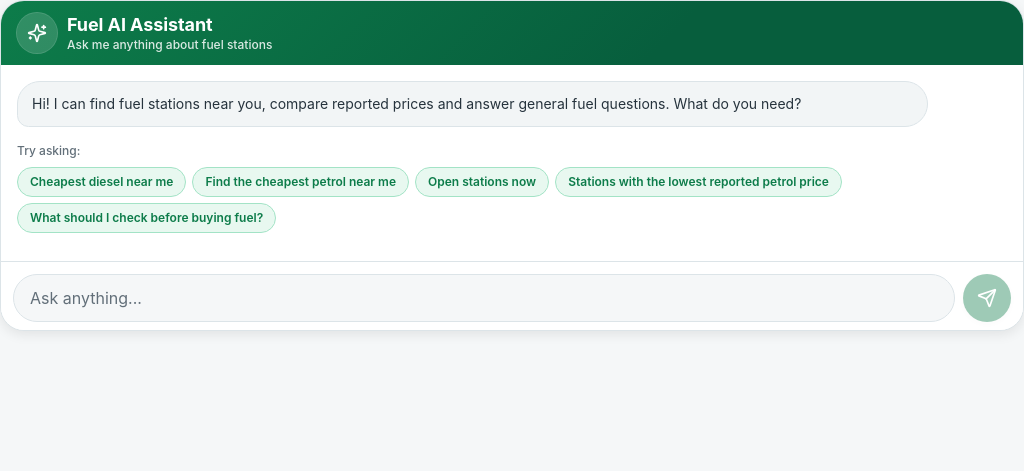
Test: conversational questions › still refuses to run a station search without a location
The width and height of the screenshot is (1024, 471).
Type "cheapest petrol near me" into the field named "Ask Fuel AI" at (484, 298), box [13,274,955,322]
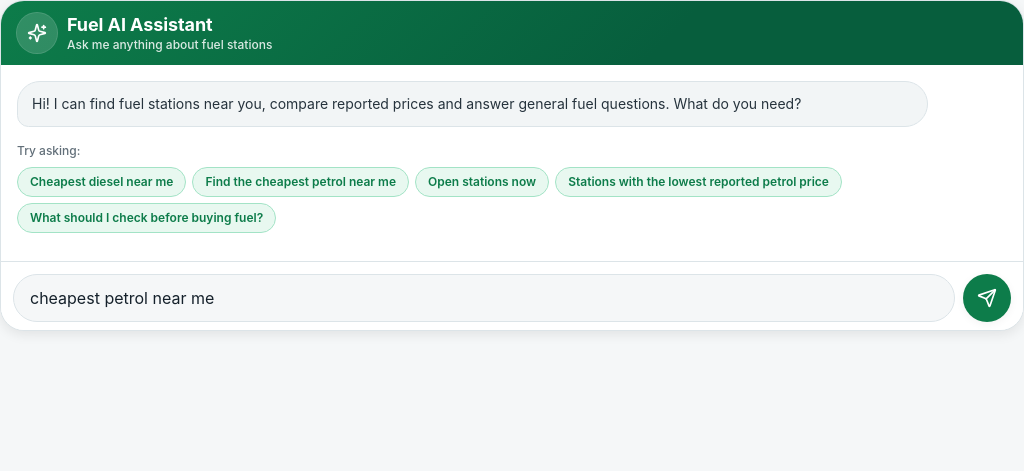
Click the button named "ask fuel ai" at (987, 298), box [963,274,1011,322]
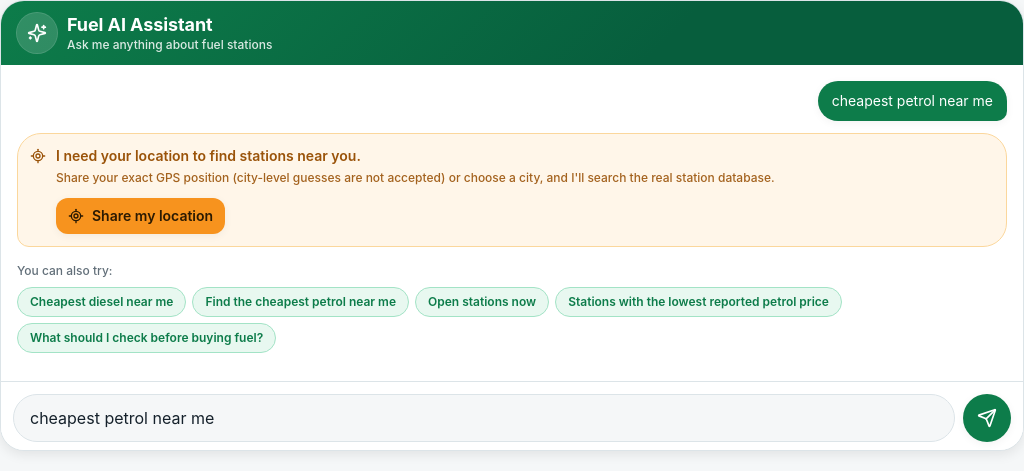
expect the text "I need your location to find stations near you." is shown: met, box [56,147,361,164]
